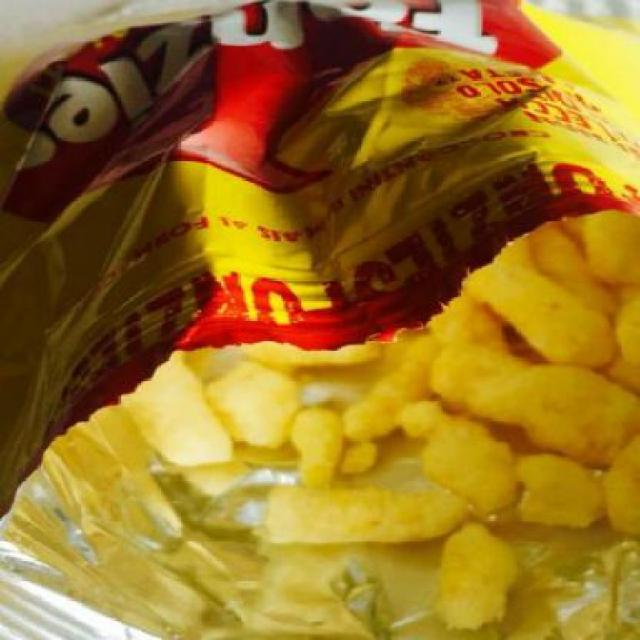Chips packaged: (414, 339, 638, 459), (255, 478, 483, 554), (424, 532, 526, 630), (276, 406, 364, 490)
